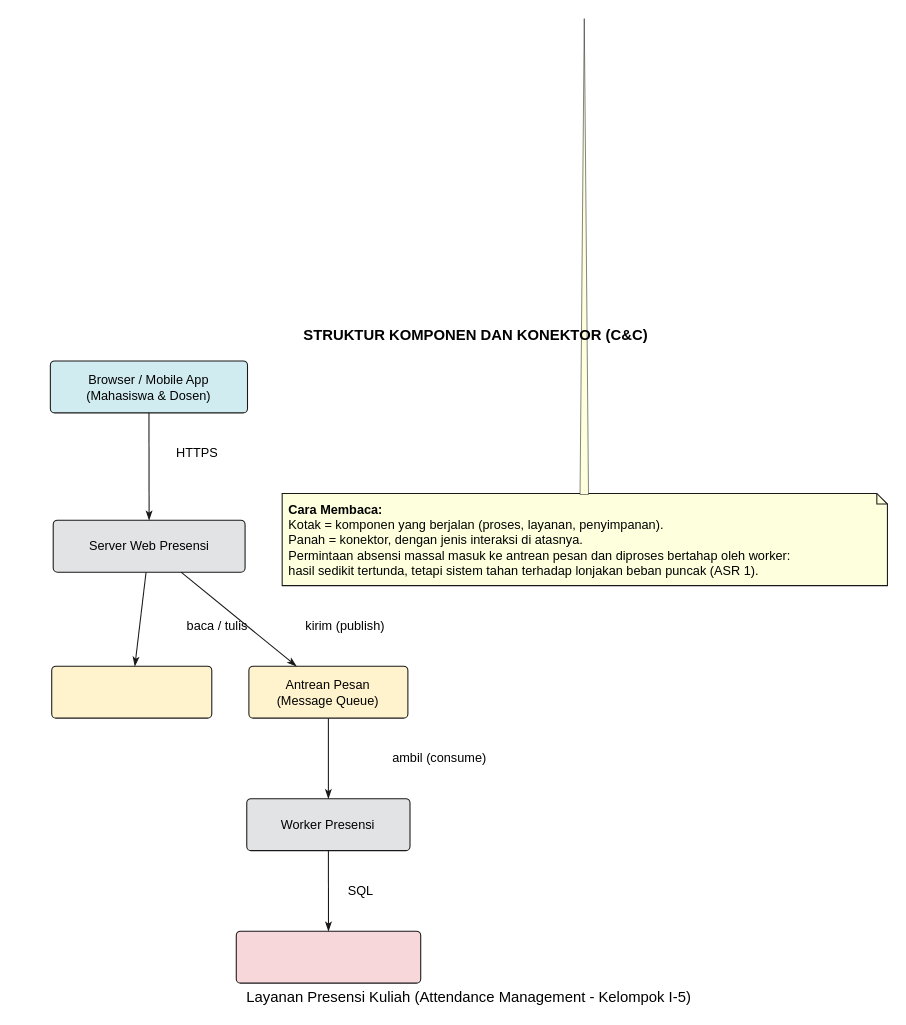
Some shapes in this 906 by 1025 pixel diagram are drawn without their labels. The shapes that lost their labels are listed below. From the top down, each one's box as (x1, y1, x2, y2) in pixels, then its label:
(51, 665, 212, 718): Cache (Sesi & Token QR)
(235, 930, 421, 983): Basis Data Akademik (SIAKAD UMI)
